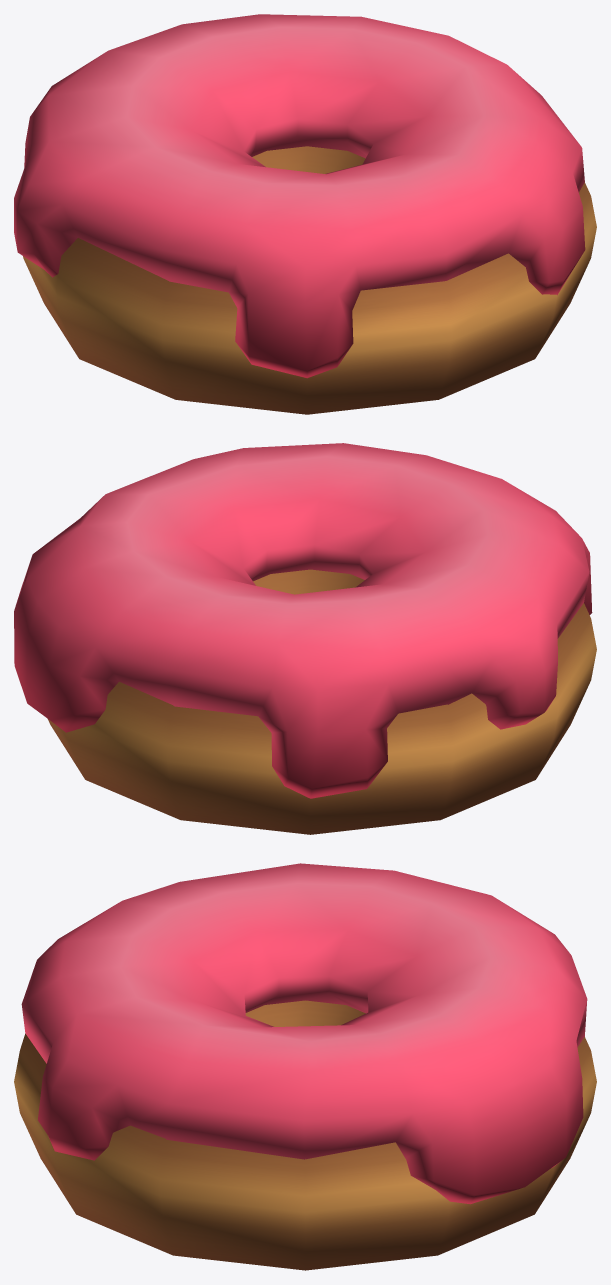
The model's file is m_Donut10.fbx.
3 views of the same model, one above another, from view 1: azimuth 30°, elevation 25°; view 2: azimuth 150°, elevation 25°; view 3: azimuth 270°, elevation 25° (orthographic).
Parts seen in each view (by area): view 1: m_Donut10; view 2: m_Donut10; view 3: m_Donut10.
Boxes of the visible parts, x1,y1,x2,y2 form: m_Donut10: (14, 14, 596, 414); m_Donut10: (14, 443, 596, 834); m_Donut10: (14, 863, 596, 1270).
Size of the model in its own units: 12.47 by 5.35 by 12.16.
